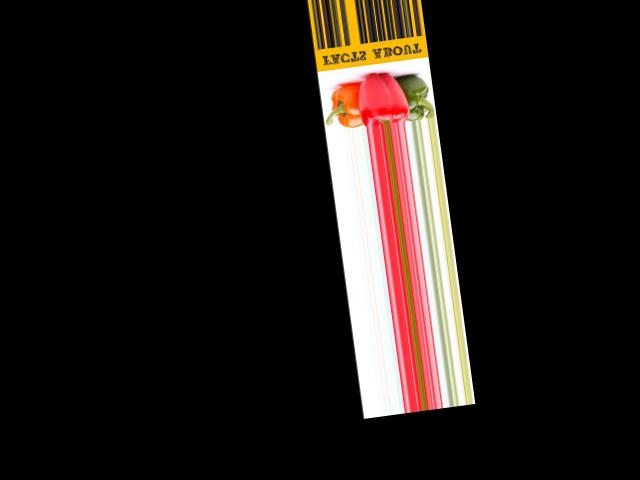bell_pepper: (400, 65, 434, 120)
